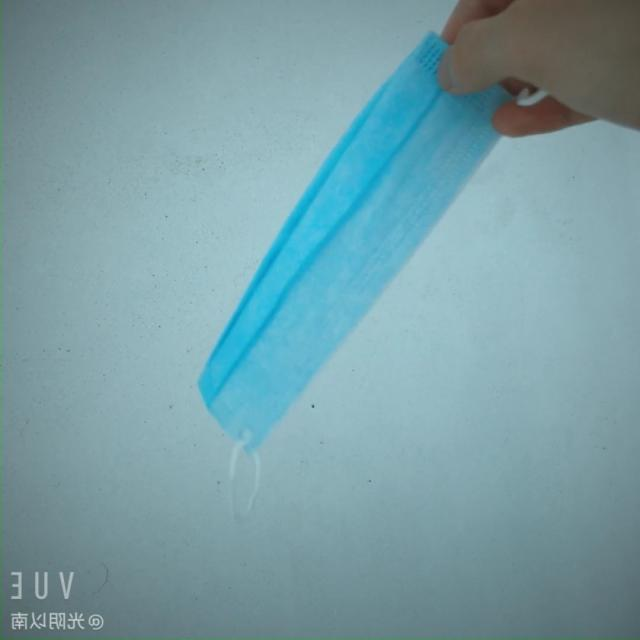face mask: (178, 18, 521, 494)
